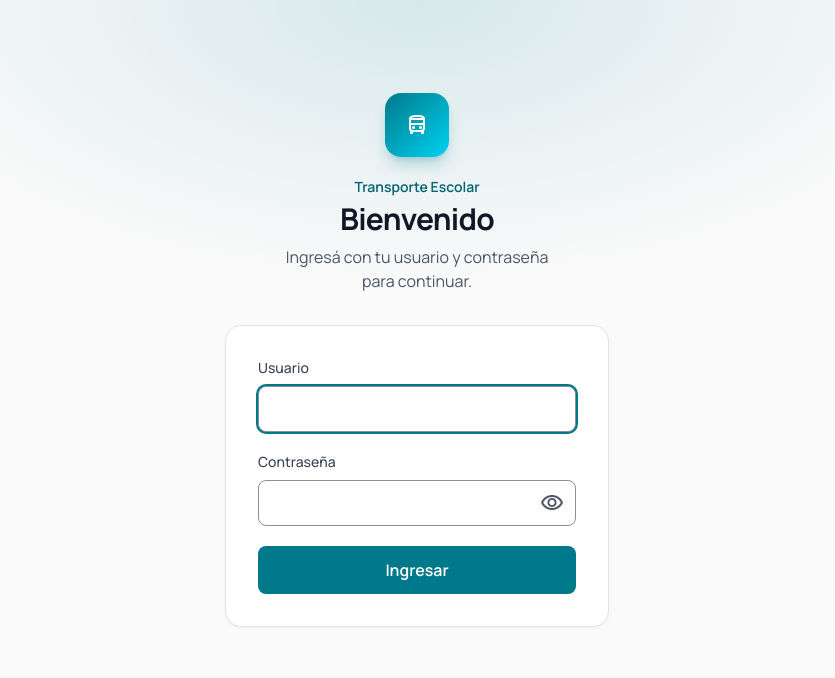
Test: LoginPage › muestra el mensaje para un 401
Type "admin" into the field labelled "Usuario" at (417, 409), box 258,386 -> 576,432
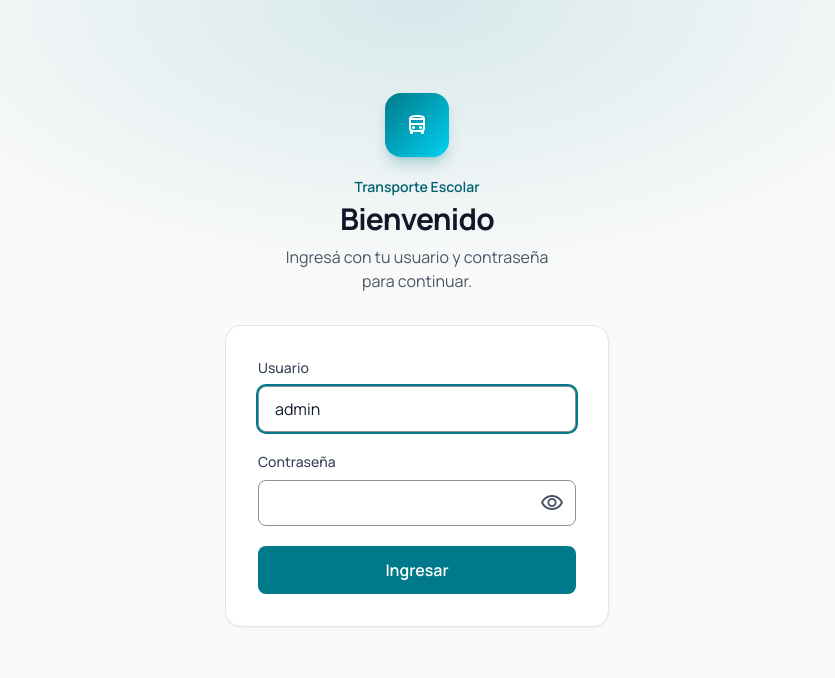
Type "mala" into the password field labelled "Contraseña" at (417, 503), box 258,480 -> 576,526
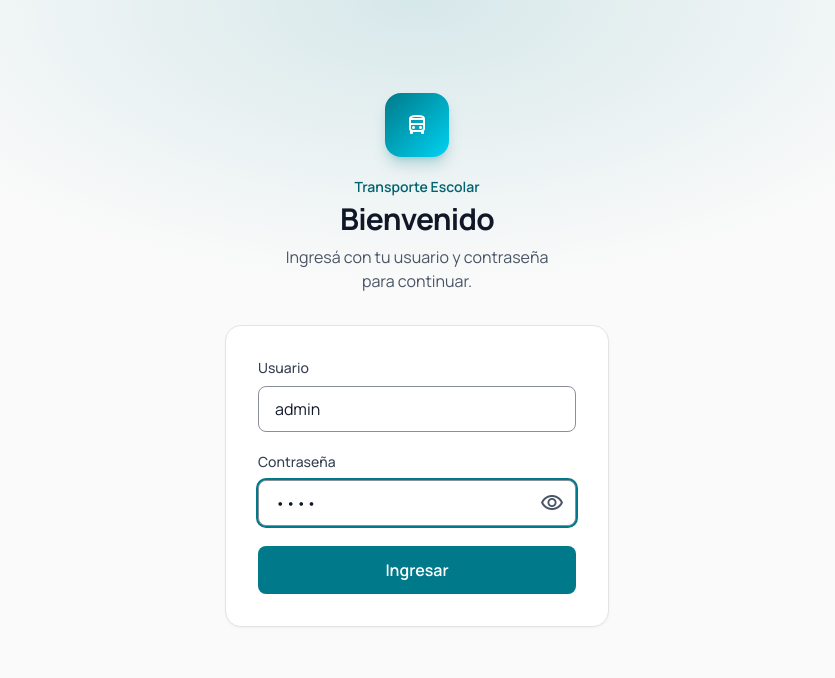
Click the button "Ingresar" at (417, 570), box 258,546 -> 576,594
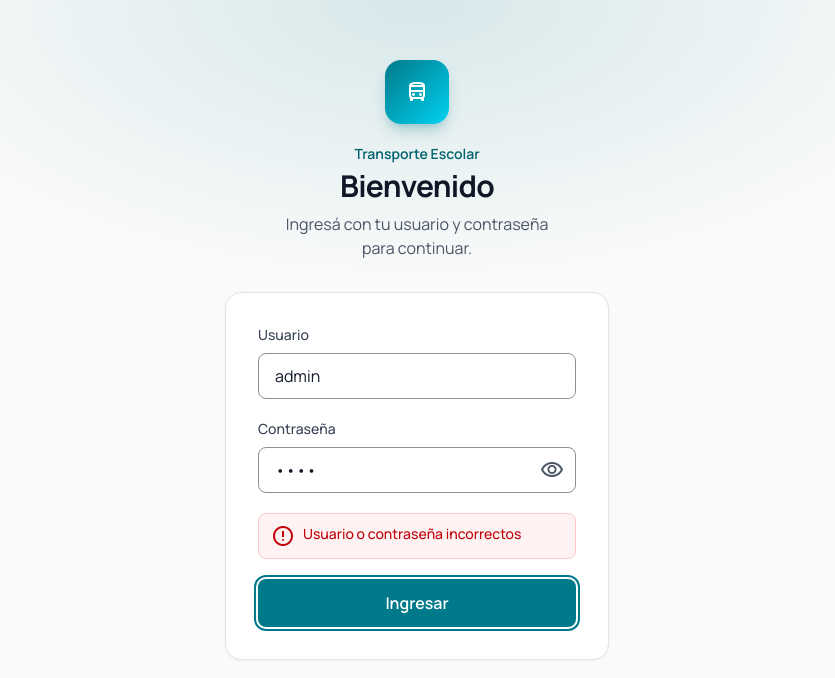
Result: the text "Usuario o contraseña incorrectos" is shown at 258,513 -> 576,559
